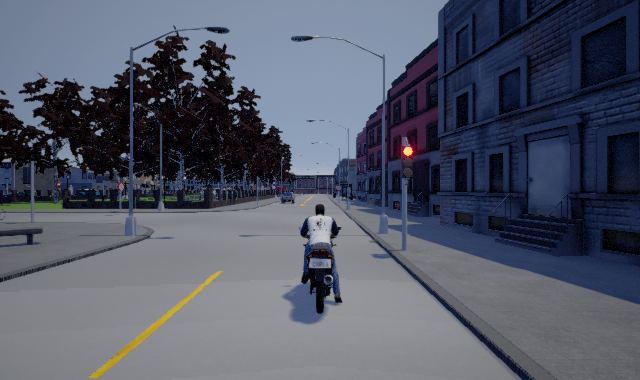motobike: (298, 201, 343, 320)
traffic_light: (401, 139, 413, 185)
vehicle: (280, 189, 294, 204)
